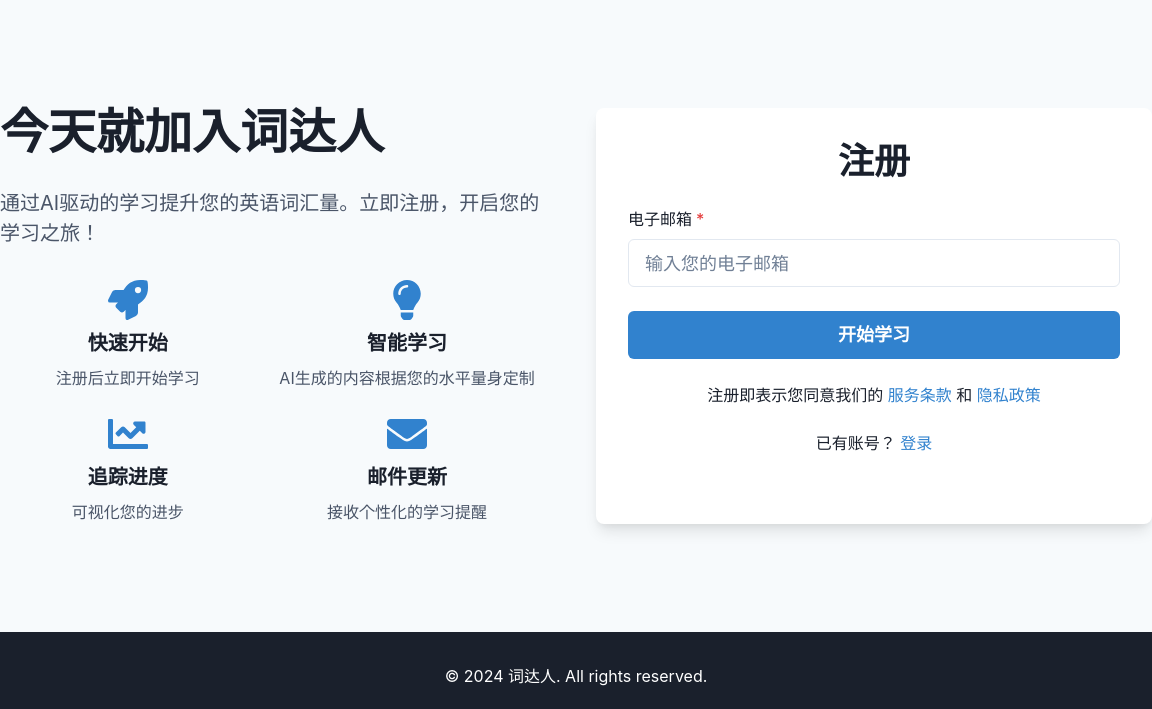
Test case: SignUpPage › navigates to terms of service page when terms of service link is clicked
Click the link "服务条款": (920, 395) top-left (888, 385), bottom-right (952, 405)
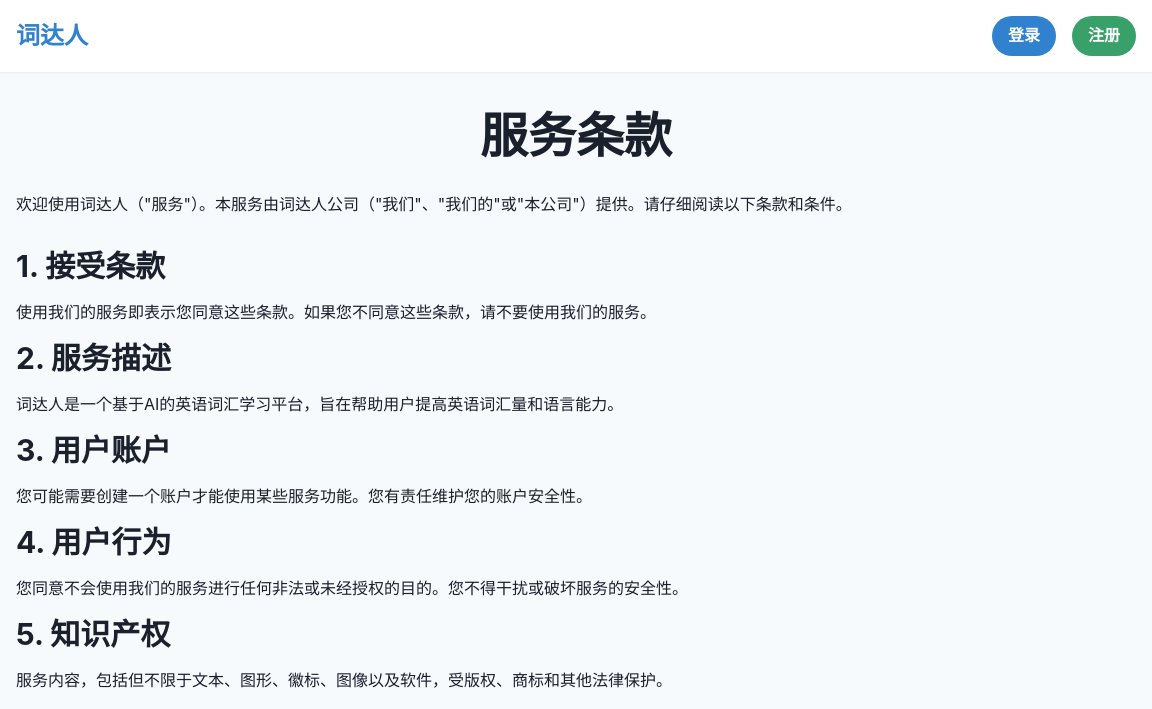
Check: the heading "1. 接受条款" is shown, box top-left (16, 248), bottom-right (165, 284)
